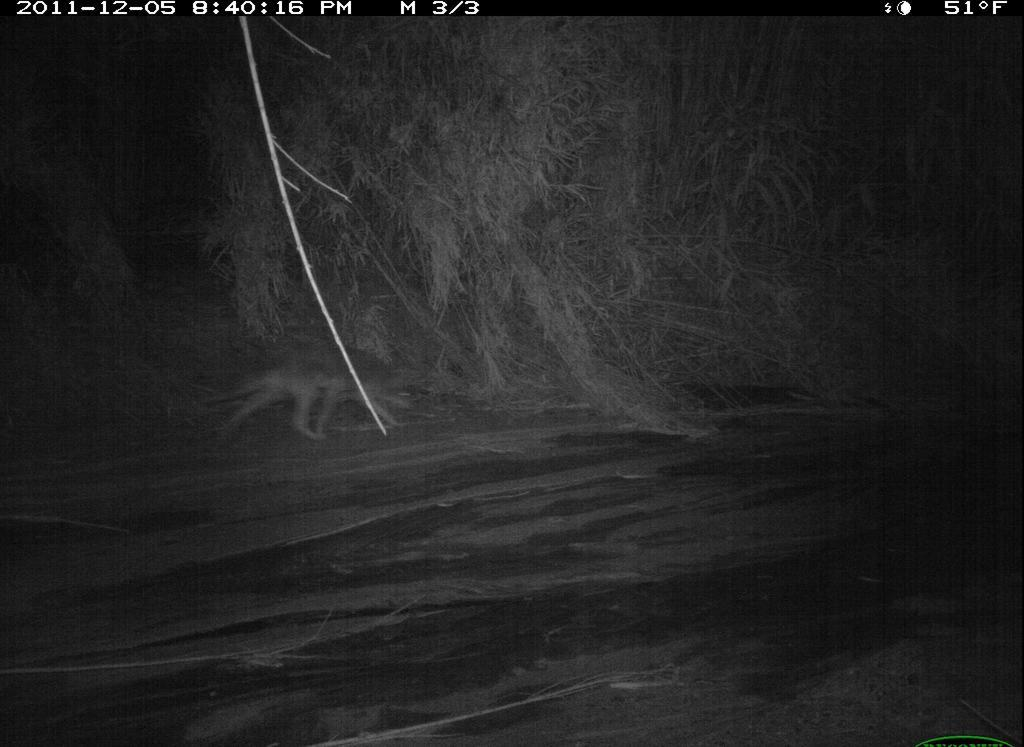coyote: (209, 345, 425, 445)
